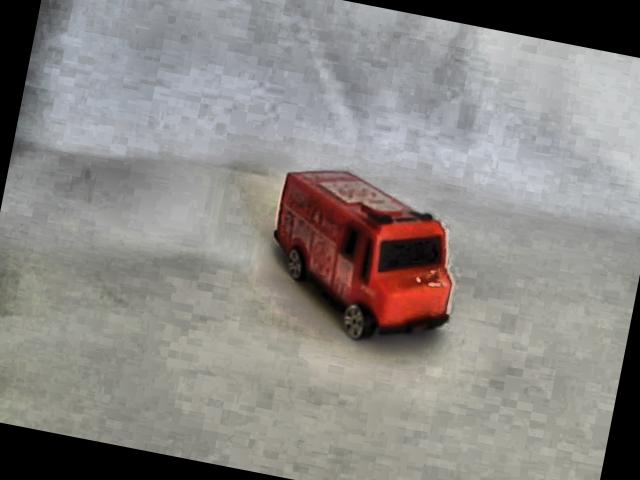fire_truck: (247, 149, 480, 361)
